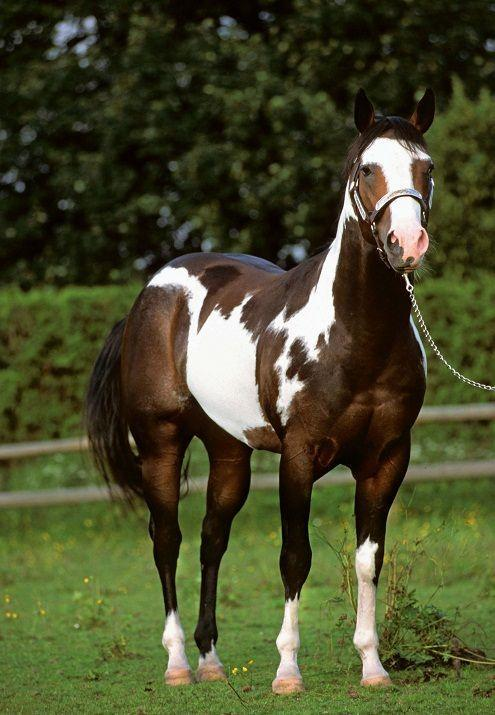horse: (73, 63, 495, 715)
